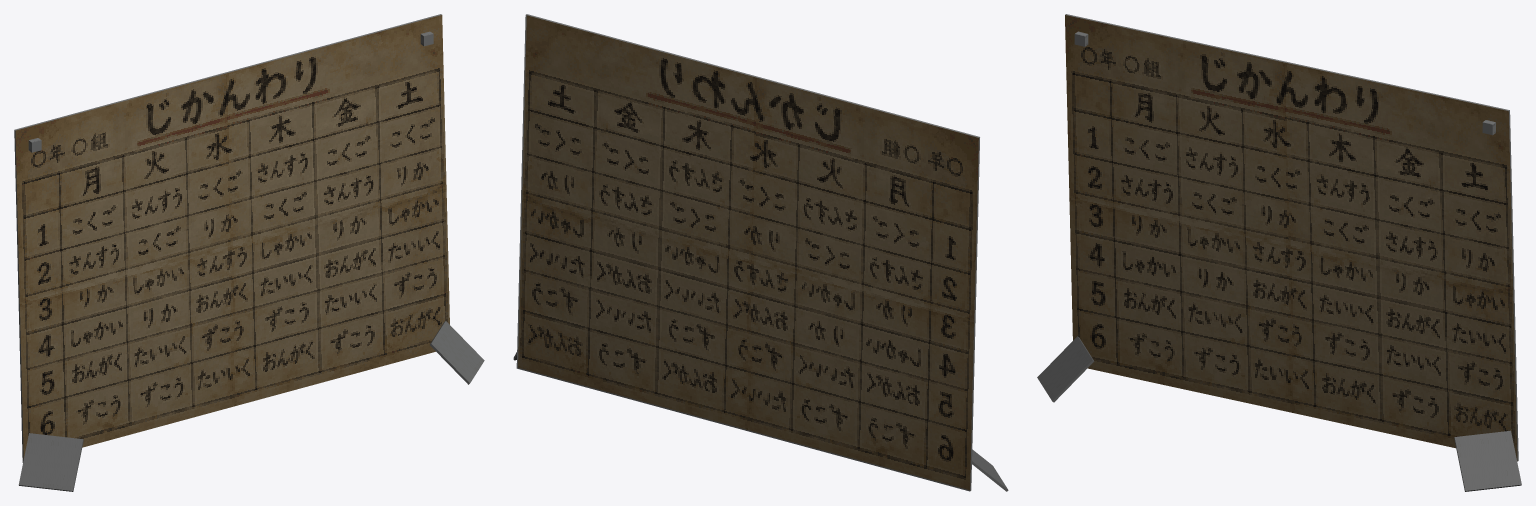
Rendered from prop_poster-jikanwari-4.glb.
The picture shows the model from 3 angles, left to right: view 1: azimuth 30°, elevation 25°; view 2: azimuth 150°, elevation 25°; view 3: azimuth 330°, elevation 25°; orthographic projection. The views are drawn at different scales.
Visible parts, largest first — view 1: prop_poster-jikanwari-4; view 2: prop_poster-jikanwari-4; view 3: prop_poster-jikanwari-4.
Part boxes in pixels (x1,y1,x2,y2): prop_poster-jikanwari-4: [14, 14, 484, 491]; prop_poster-jikanwari-4: [513, 14, 1008, 491]; prop_poster-jikanwari-4: [1037, 14, 1521, 491].
Bounding box in the file's own units: 0.6707 × 0.4865 × 0.0897.
2 materials, 2 textured.
